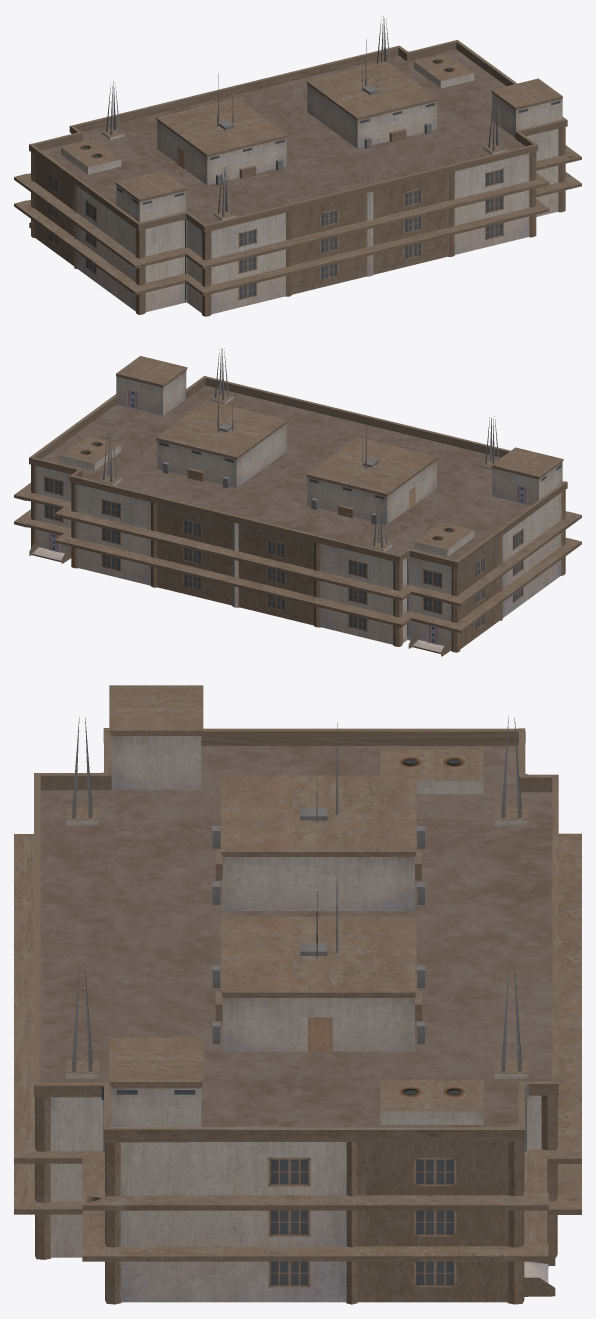
Rendered from ORB_5_Combi_Detail_2.fbx.
3 renders of one model, top to bottom at view 1: azimuth 30°, elevation 25°; view 2: azimuth 150°, elevation 25°; view 3: azimuth 270°, elevation 25°, orthographic. The views are drawn at different scales.
Parts seen in each view (by area): view 1: ORB_5_Combi_Detail_2; view 2: ORB_5_Combi_Detail_2; view 3: ORB_5_Combi_Detail_2.
Part boxes in pixels (x1,y1,x2,y2): ORB_5_Combi_Detail_2: (14, 16, 581, 316); ORB_5_Combi_Detail_2: (14, 348, 581, 656); ORB_5_Combi_Detail_2: (14, 685, 581, 1304).
Size of the model in its own units: 4663 by 1636 by 2676.
